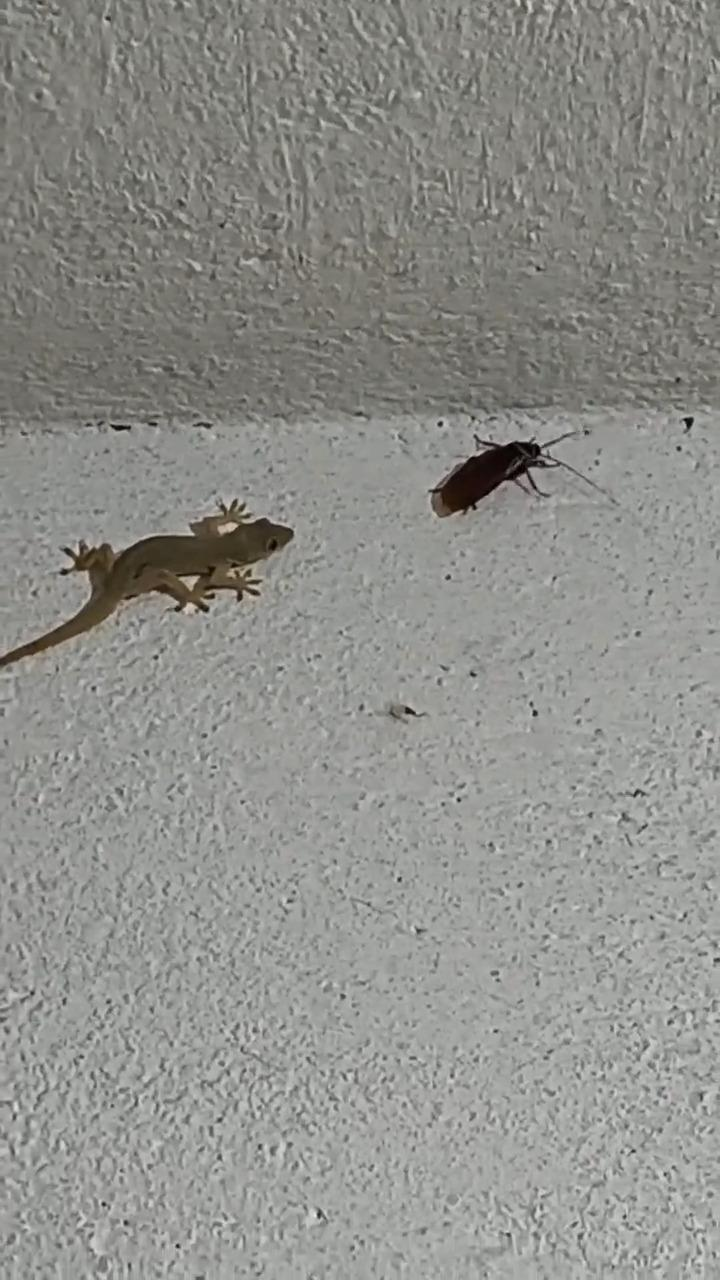cockroach: (0, 494, 328, 668), (405, 421, 627, 524)
